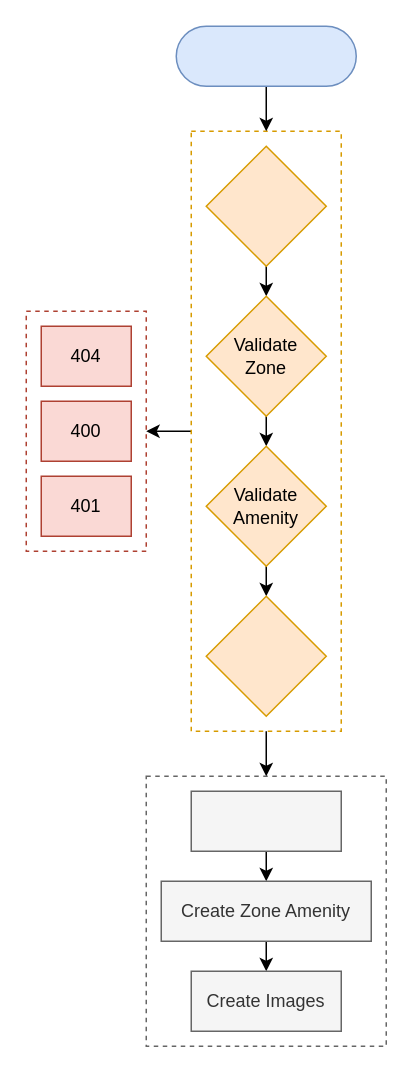
The diagram is 413 pixels wide and 1073 high, and some of its shapes have lost their labels. Each missing label, with the centre of its shape:
"Create Zone" belongs at point (265, 820).
"POST /zones" belongs at point (265, 55).
"Validate Images" belongs at point (265, 655).
"Validate Venue" belongs at point (265, 205).
